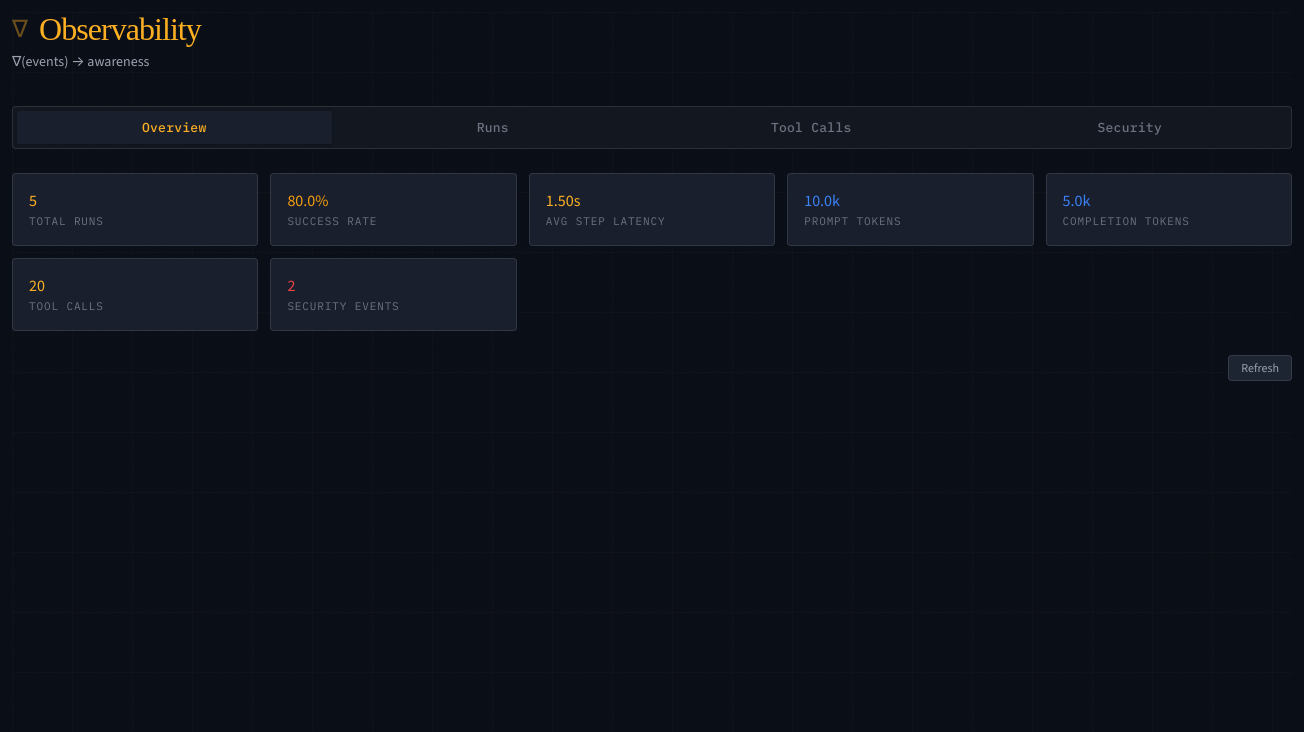
Test: Observability page › switches to Runs tab
Expected: the text "Total Runs" is shown, [29, 214, 104, 228]
Click the button "Runs": (493, 127) [336, 111, 650, 144]
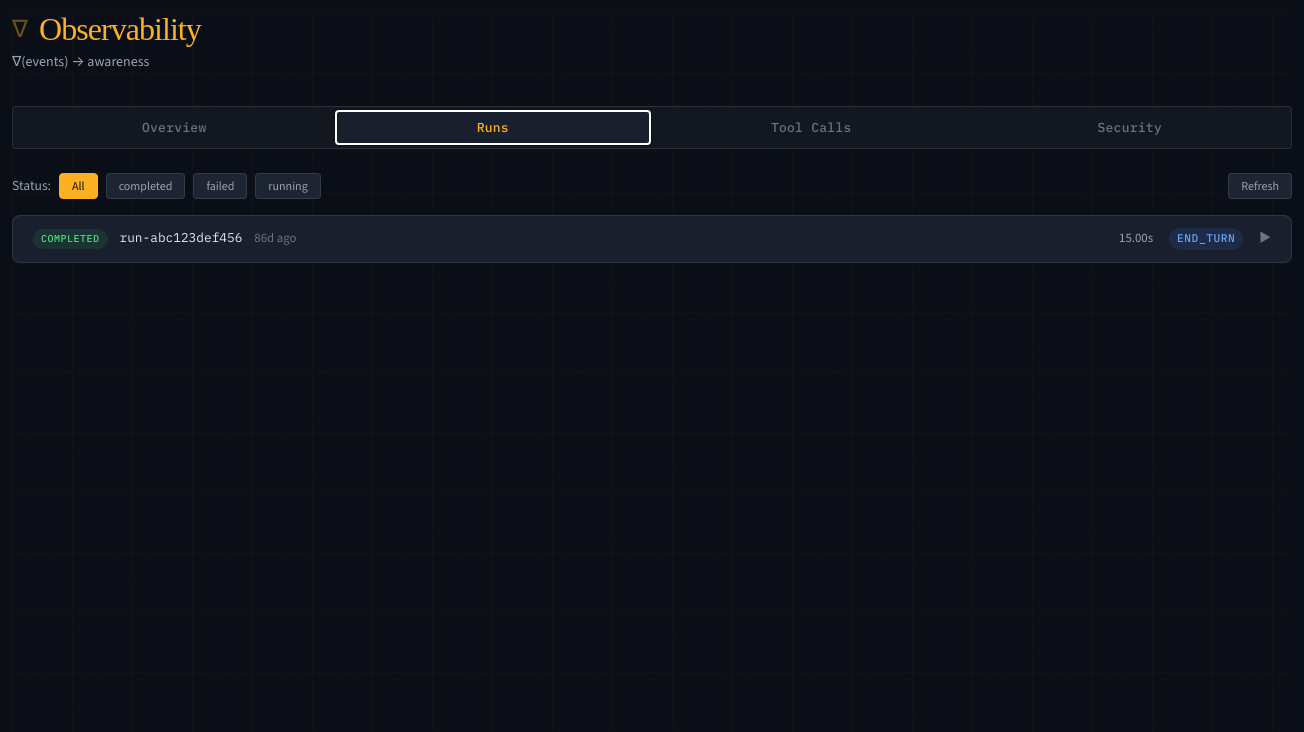
Expected: the text "run-abc123def456" is shown, [120, 228, 242, 249]
